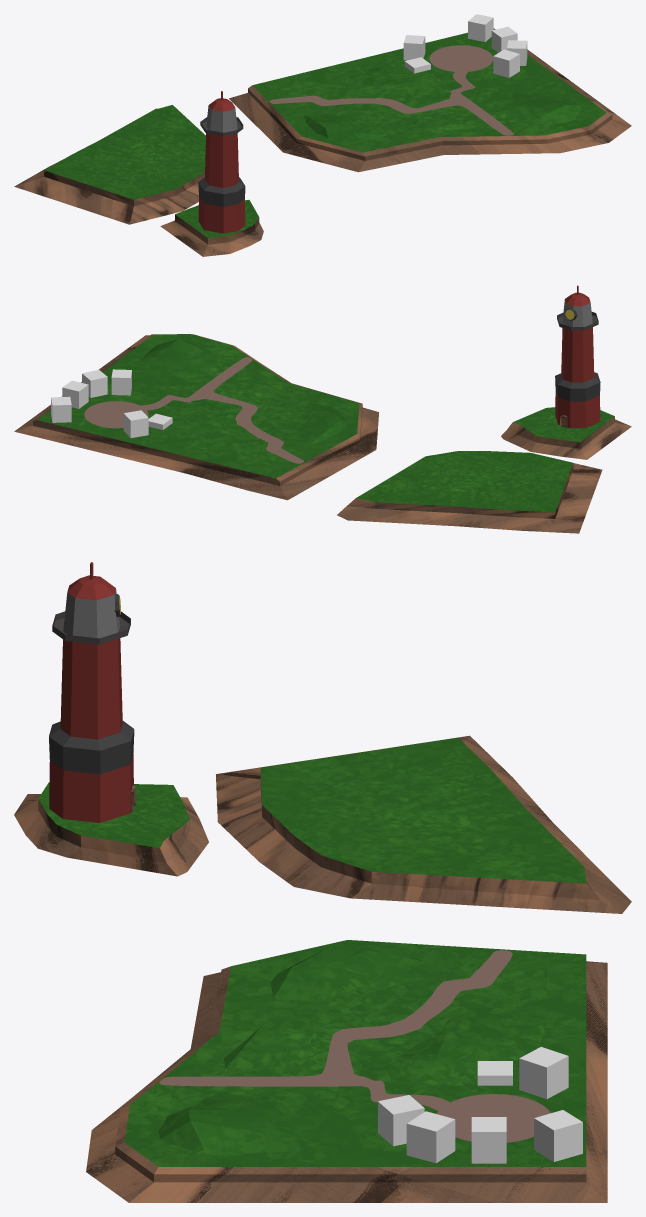
Rendered from Farolzin.fbx.
The picture shows the model from 3 angles, top to bottom: view 1: azimuth 30°, elevation 25°; view 2: azimuth 150°, elevation 25°; view 3: azimuth 270°, elevation 25°; orthographic projection. The views are drawn at different scales.
Visible parts, largest first — view 1: Plane, Plane.003, Plane.002, Farol, Plane.004, Plane.001, Cylinder, Cube.005, Cube.006, Cube.002, Cube.003, Cube.004; view 2: Plane, Plane.003, Plane.002, Farol, Plane.004, Plane.001, Cylinder, Cube.002, Cube.004, Cube.003, Cube.005, Cube.006; view 3: Plane, Plane.003, Plane.002, Farol, Plane.004, Plane.001, Cylinder, Cube.002, Cube.004, Cube.006, Cube.003, Cube.005 (+1 smaller).
Boxes of the visible parts, x1,y1,x2,y2 form: Plane: [229, 28, 631, 172]; Plane.003: [14, 105, 205, 224]; Plane.002: [278, 68, 581, 141]; Farol: [198, 91, 245, 233]; Plane.004: [160, 200, 263, 256]; Plane.001: [269, 71, 513, 135]; Cylinder: [429, 45, 493, 71]; Cube.005: [493, 49, 519, 77]; Cube.006: [468, 14, 493, 41]; Cube.002: [403, 35, 425, 60]; Cube.003: [491, 26, 517, 52]; Cube.004: [507, 40, 527, 65]; Plane: [14, 334, 378, 500]; Plane.003: [337, 451, 602, 533]; Plane.002: [133, 339, 347, 466]; Farol: [555, 285, 600, 428]; Plane.004: [501, 407, 631, 459]; Plane.001: [140, 357, 303, 463]; Cylinder: [84, 401, 148, 428]; Cube.002: [123, 410, 148, 437]; Cube.004: [82, 370, 107, 397]; Cube.003: [62, 380, 88, 408]; Cube.005: [111, 369, 131, 395]; Cube.006: [51, 396, 71, 422]; Plane: [86, 940, 607, 1202]; Plane.003: [216, 735, 631, 913]; Plane.002: [158, 945, 549, 1155]; Farol: [49, 562, 134, 822]; Plane.004: [14, 782, 208, 876]; Plane.001: [159, 950, 512, 1111]; Cylinder: [436, 1094, 550, 1142]; Cube.002: [519, 1047, 568, 1099]; Cube.004: [406, 1111, 455, 1163]; Cube.006: [534, 1110, 582, 1161]; Cube.003: [471, 1117, 506, 1163]; Cube.005: [378, 1095, 424, 1146].
Bounding box in the file's own units: 20616 × 5536 × 11481.
